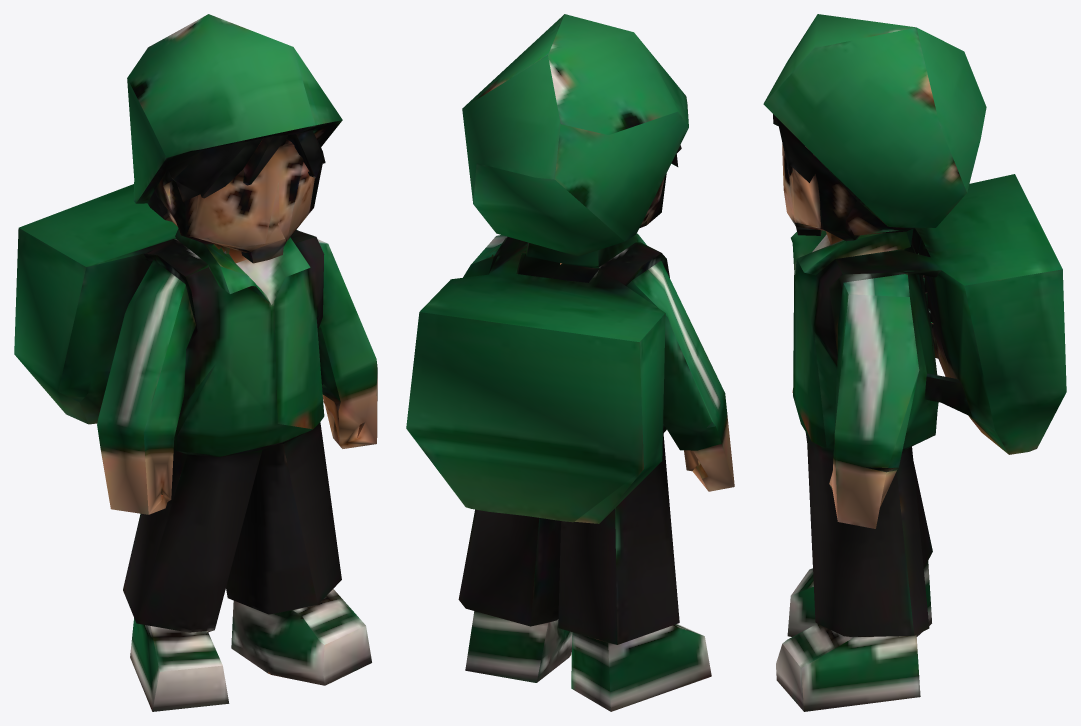
Rendered from grab-person-crowd.glb.
3 views of the same model, side by side, from view 1: azimuth 30°, elevation 25°; view 2: azimuth 150°, elevation 25°; view 3: azimuth 270°, elevation 25° (orthographic).
Visible parts, largest first — view 1: textured_mesh.obj; view 2: textured_mesh.obj; view 3: textured_mesh.obj.
Part boxes in pixels (x1,y1,x2,y2): textured_mesh.obj: [14, 14, 377, 711]; textured_mesh.obj: [406, 14, 734, 711]; textured_mesh.obj: [763, 14, 1066, 711].
Size of the model in its own units: 0.9268 by 1.95 by 0.8484.
1 material, 1 textured.
